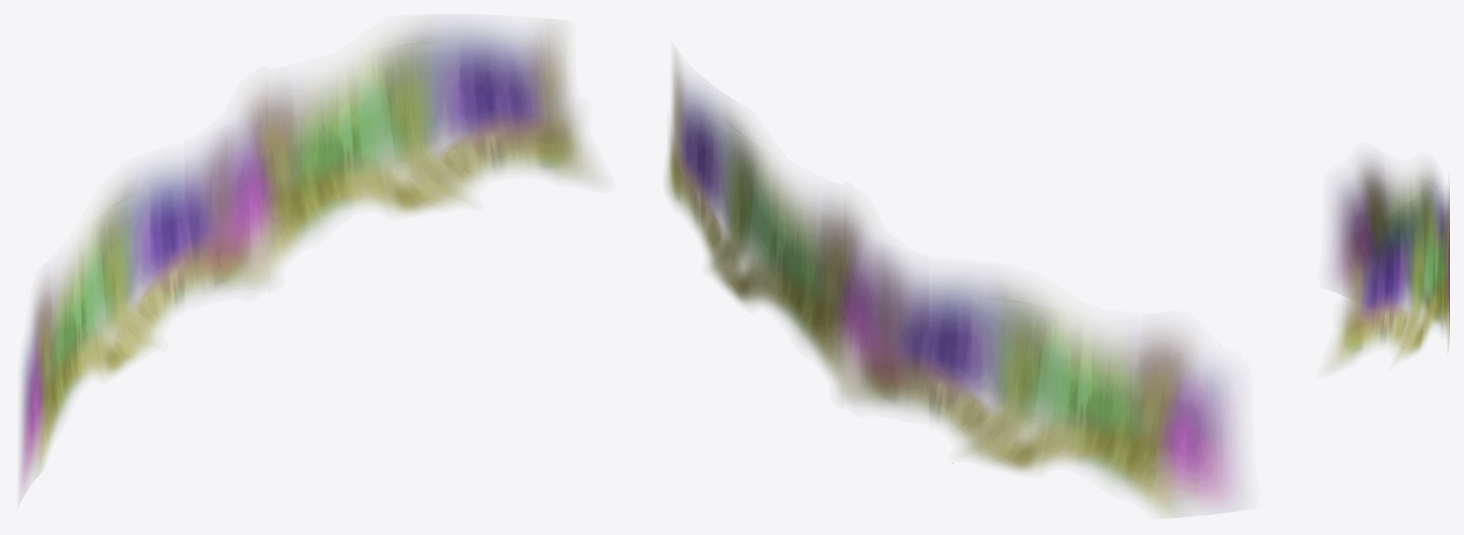
The model's file is auroraLight.glb.
3 renders of one model, left to right at view 1: azimuth 30°, elevation 25°; view 2: azimuth 150°, elevation 25°; view 3: azimuth 270°, elevation 25°, orthographic. The views are drawn at different scales.
Parts seen in each view (by area): view 1: northern-lights-png-transparent-image-download-98450-2048x92; view 2: northern-lights-png-transparent-image-download-98450-2048x92; view 3: northern-lights-png-transparent-image-download-98450-2048x92.
Boxes of the visible parts, x1,y1,x2,y2 form: northern-lights-png-transparent-image-download-98450-2048x92: (20,24,595,492); northern-lights-png-transparent-image-download-98450-2048x92: (666,57,1239,517); northern-lights-png-transparent-image-download-98450-2048x92: (1330,159,1449,366).
Size of the model in its own units: 168 by 88.61 by 42.97.
1 material, 1 textured.
